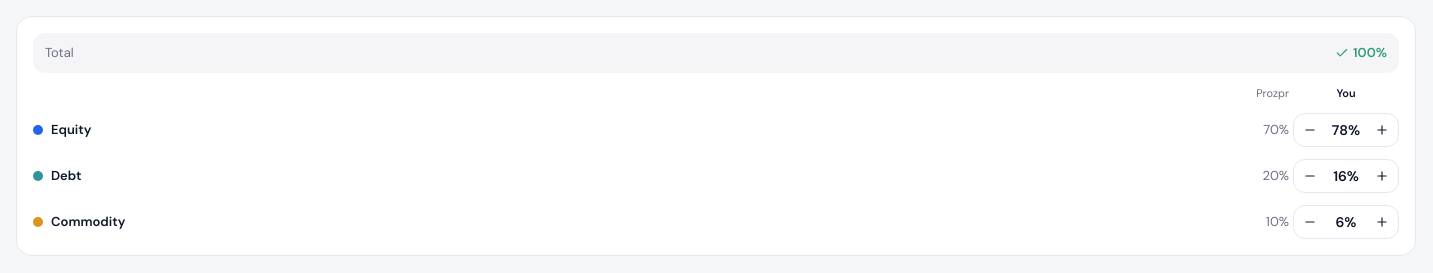
Test case: AssetMixCard › says how far the mix is from a hundred (Decrease Debt)
Click the button named "Decrease Debt": click(1310, 176) [1294,160,1326,192]
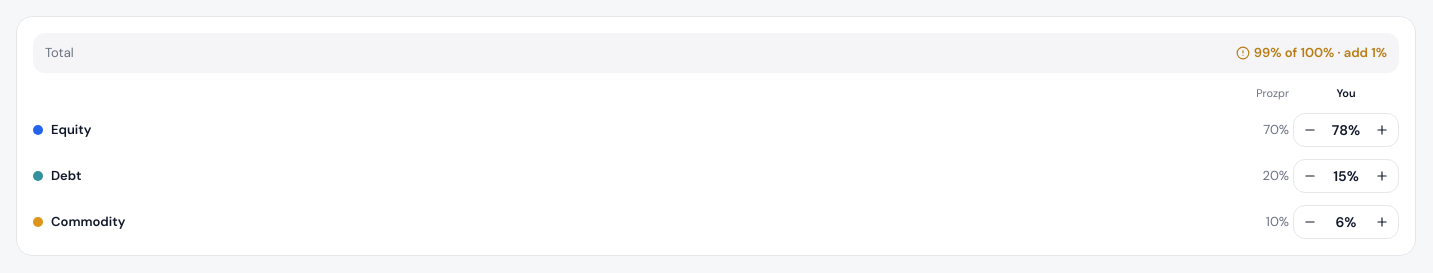
Click the button named "Decrease Debt": click(1310, 176) [1294,160,1326,192]
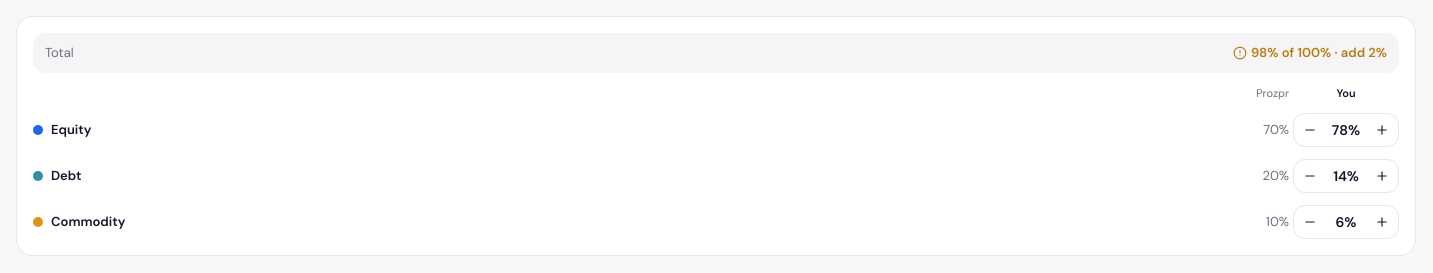
Click the button named "Decrease Debt": click(1310, 176) [1294,160,1326,192]
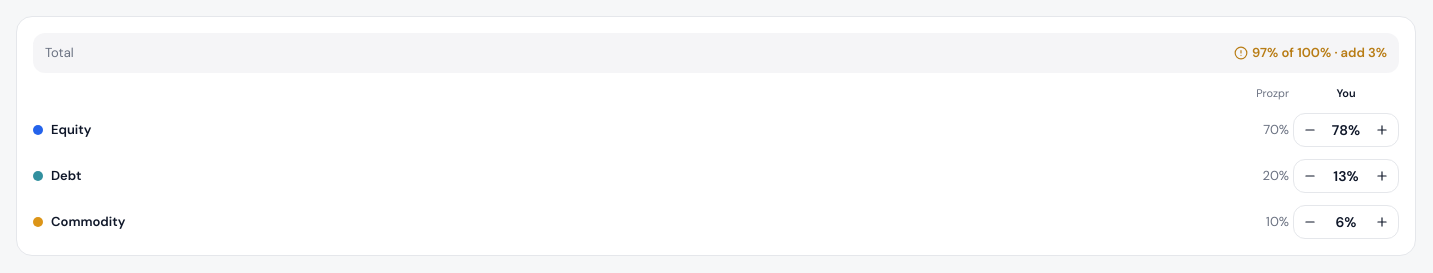
Click the button named "Decrease Debt": click(1310, 176) [1294,160,1326,192]
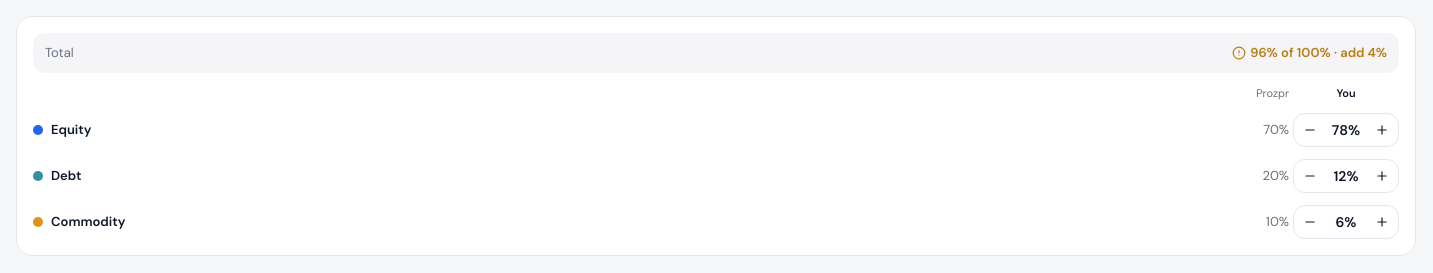
Click the button named "Decrease Debt": click(1310, 176) [1294,160,1326,192]
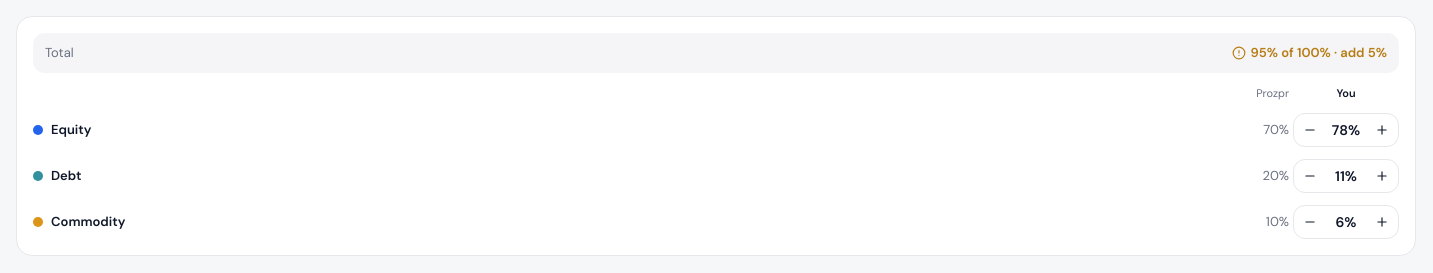
Expected: the message shows "95% of 100% · add 5%", [1250,44,1387,61]
